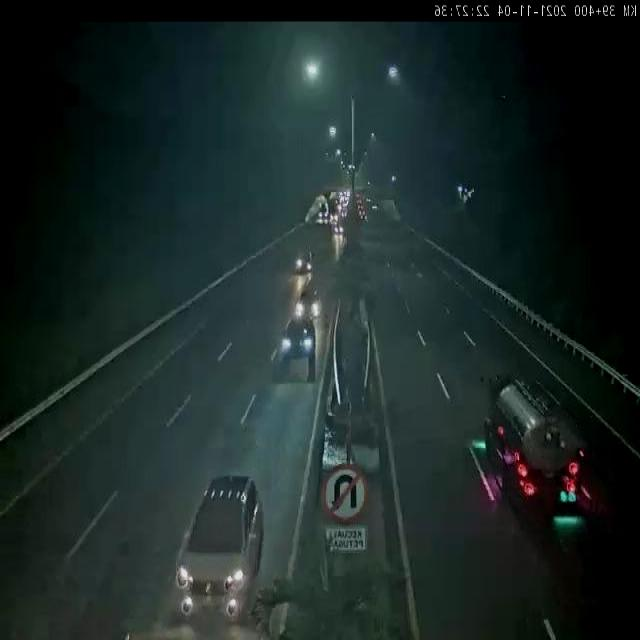Car: (161, 481, 267, 631), (277, 321, 319, 378), (284, 275, 329, 327), (292, 248, 314, 276)
Truck: (469, 366, 605, 528)
